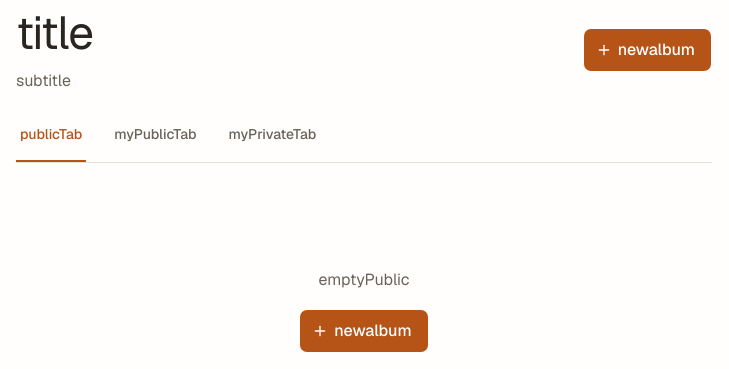
Test: gallery personal-tab pagination › keeps the sentinel mounted when the loaded page has opposite visibility (myPrivateTab)
Click the tab "myPrivateTab" at (272, 140), box [225, 118, 320, 162]
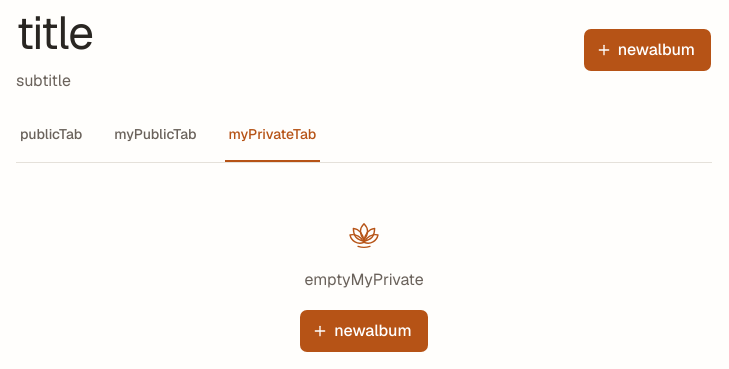
Result: the text "emptyMyPrivate" is shown at [304, 266, 424, 292]
